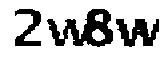2: (11, 6, 48, 51)
8: (87, 5, 116, 50)
w: (116, 13, 160, 49), (47, 16, 87, 48)
